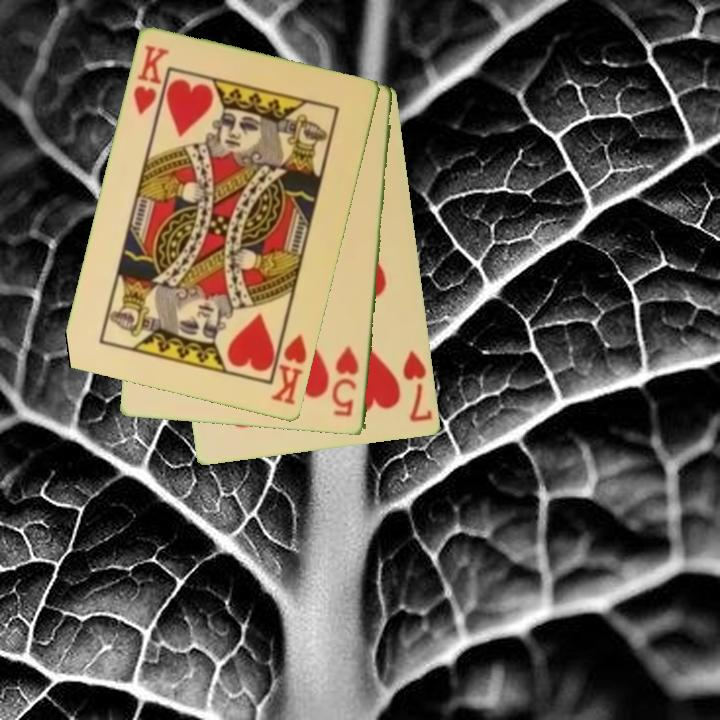5h: (330, 343, 362, 420)
7h: (400, 347, 435, 425)
Kh: (268, 324, 310, 409), (130, 42, 173, 118)
